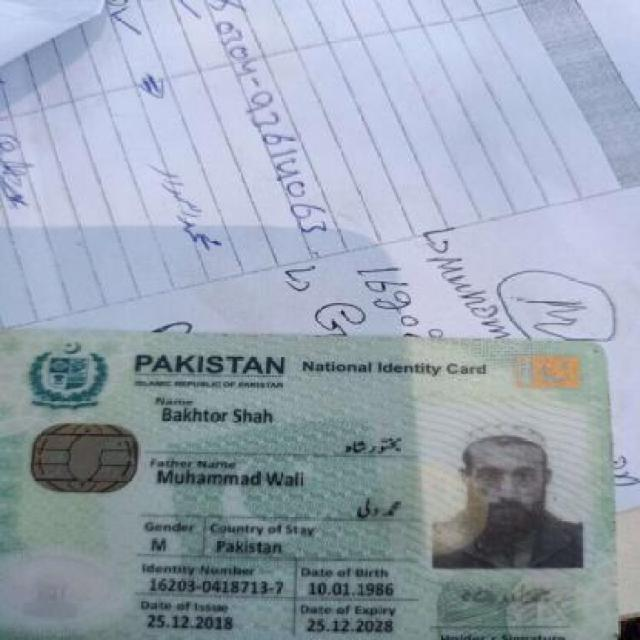Front: (8, 317, 626, 635)
